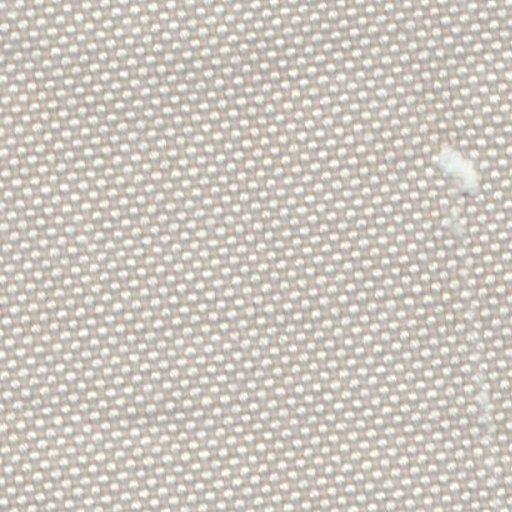MianQiu: (410, 123, 492, 207)
